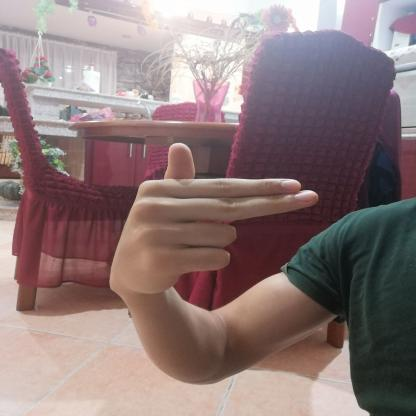GHAYN: (98, 136, 334, 300)
